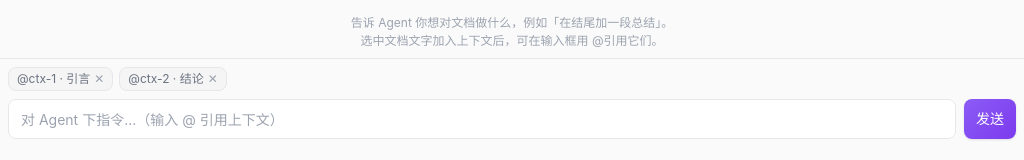
Test: AgentPanel — @ mention autocomplete › inserts the selected reference via keyboard Enter
Type "把 @ctx" into the text box with placeholder "对 Agent 下指令…（输入 @ 引用上下文）" at (482, 119), box [8,99,956,139]
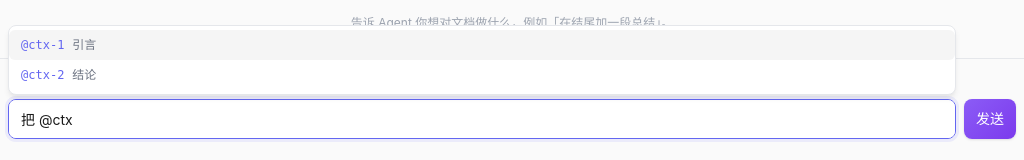
Press Arrowdown Enter
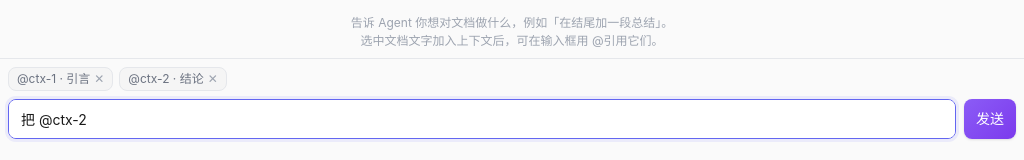
Now the text box with placeholder "对 Agent 下指令…（输入 @ 引用上下文）" holds "把 @ctx-2 ", box [8,99,956,139]
